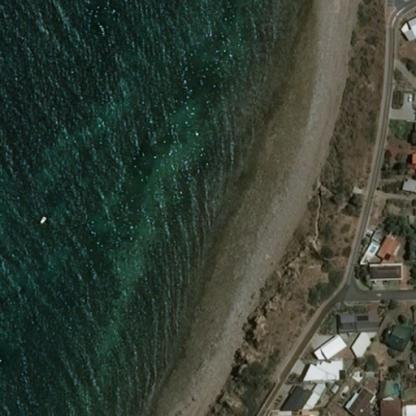ship: (39, 215, 46, 224)
